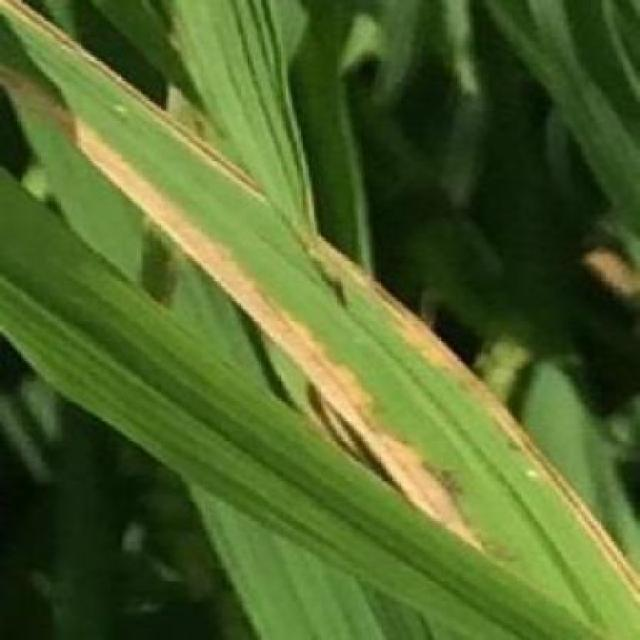Brown_Spot: (309, 240, 497, 548)
